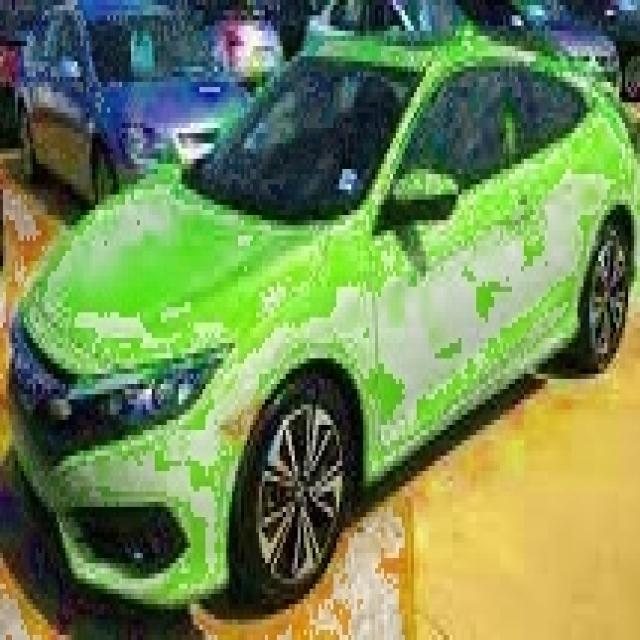green: (6, 36, 640, 619)
